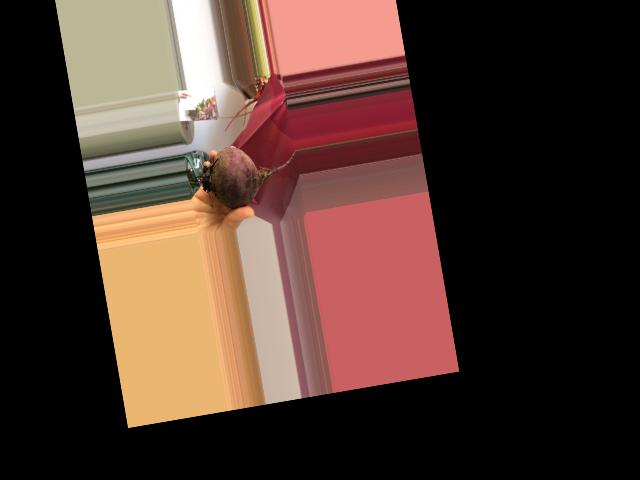beet: (183, 136, 302, 215)
